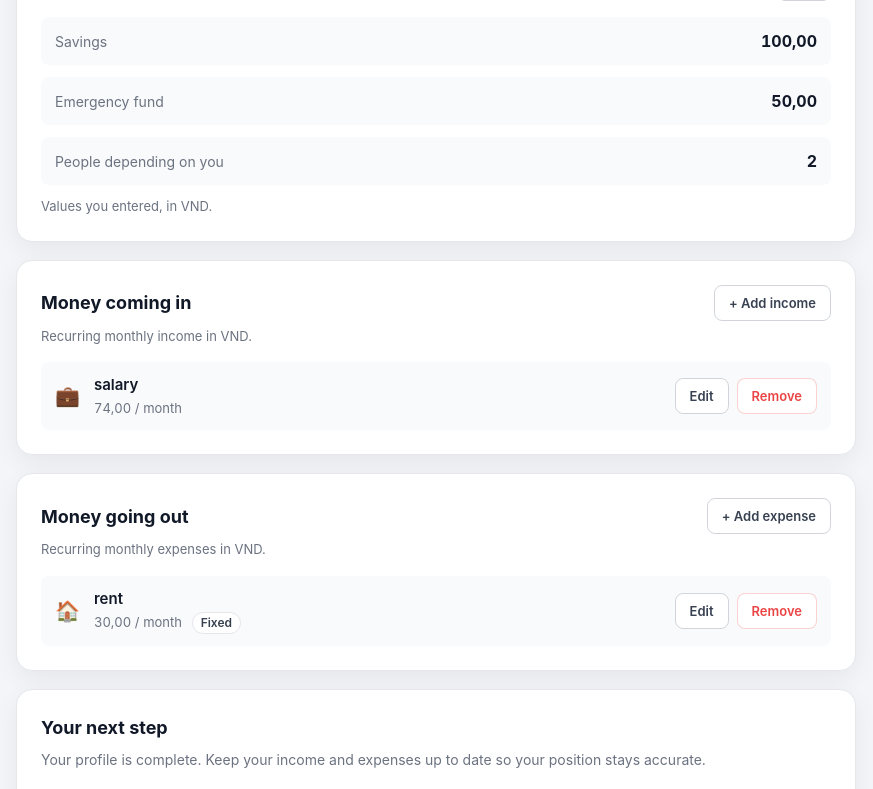
Scenario: ProfileView › reports a failed removal through the shared error mapping
(page scrolled)
Click the button "Remove" in the row of "salary".
click(777, 396)  # box x1=736 y1=378 x2=817 y2=414
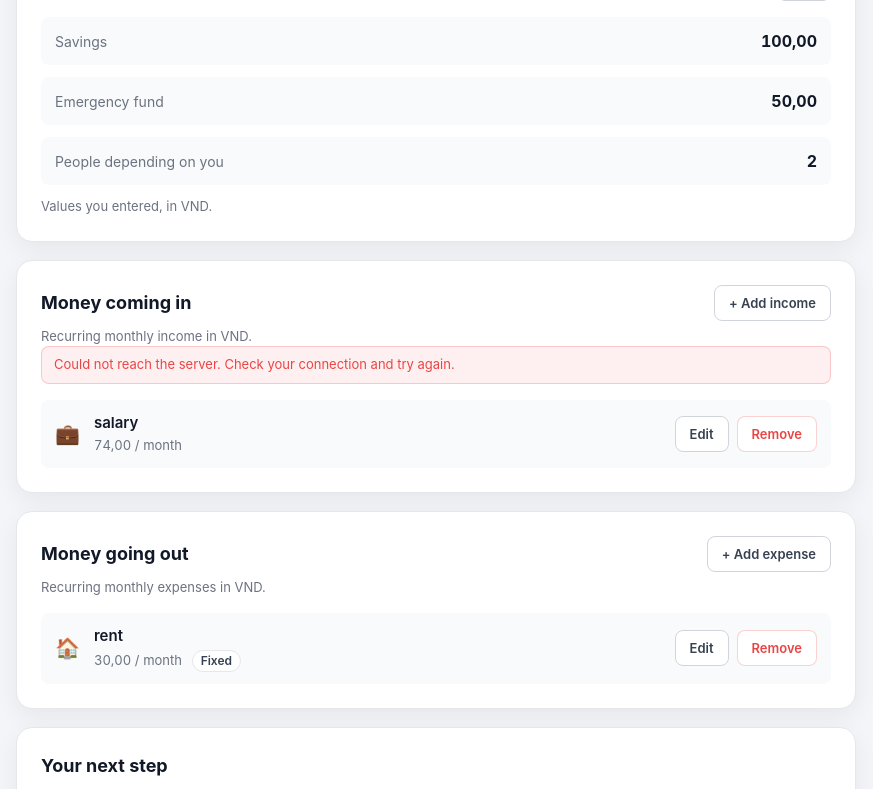
Check: the text "Could not reach the server" is shown, box x1=54 y1=356 x2=455 y2=372
